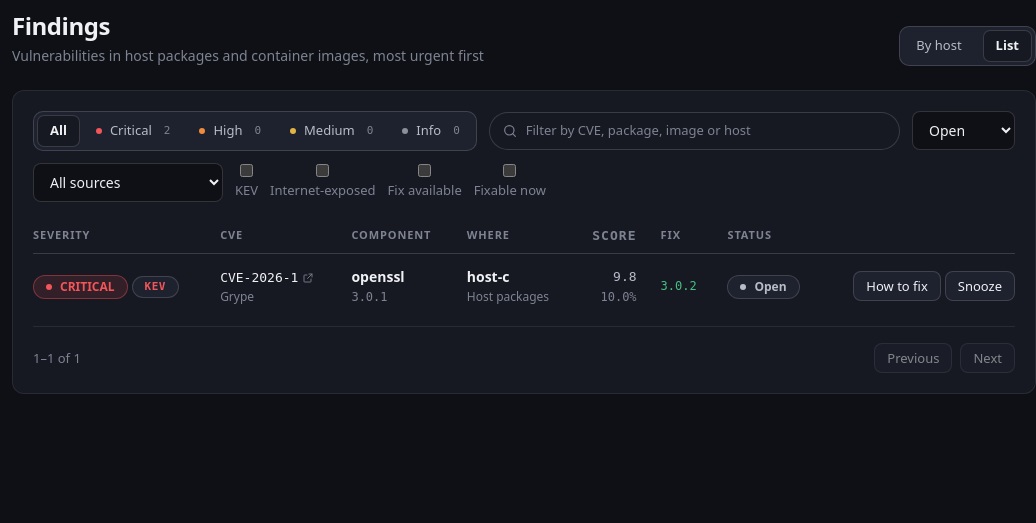
Scenario: Findings: recommended action › opens text and command under the row
Click the button "How to fix". click: click(897, 286)
box: [853,271,941,301]
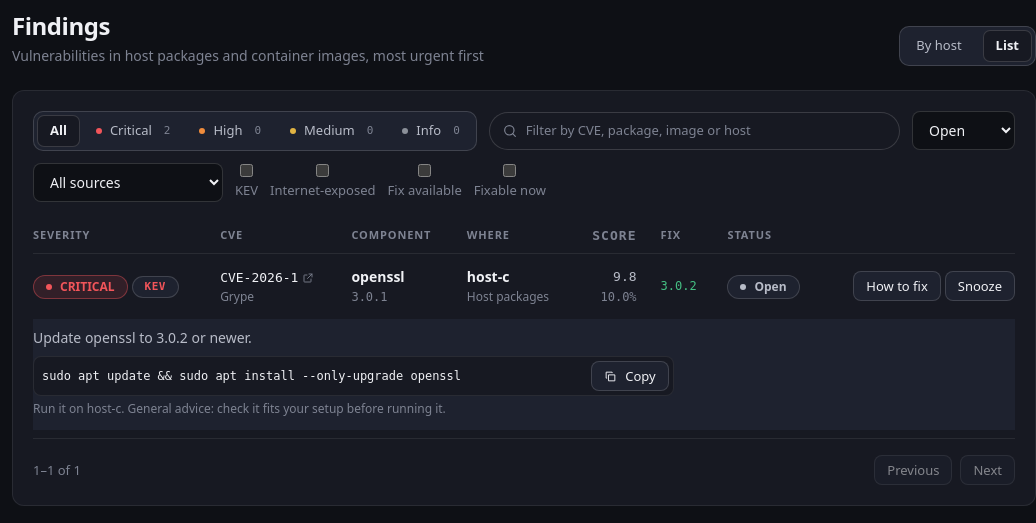
Check: the row with class "action-row" shows "Update openssl to 3.0.2 or newer.", box [33,328,252,347]
Check: the text "sudo apt update && sudo apt install --only-upgrade openssl" is shown, box [42,369,461,383]
